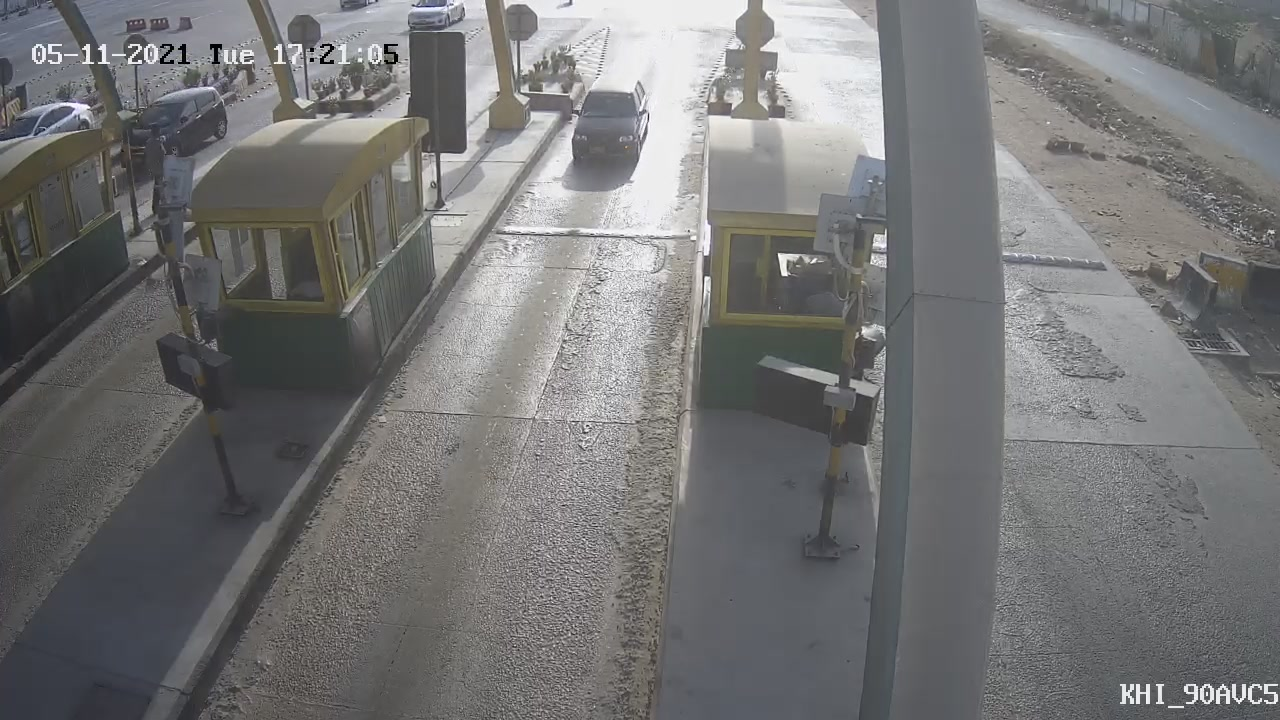F1: (553, 61, 664, 187)
